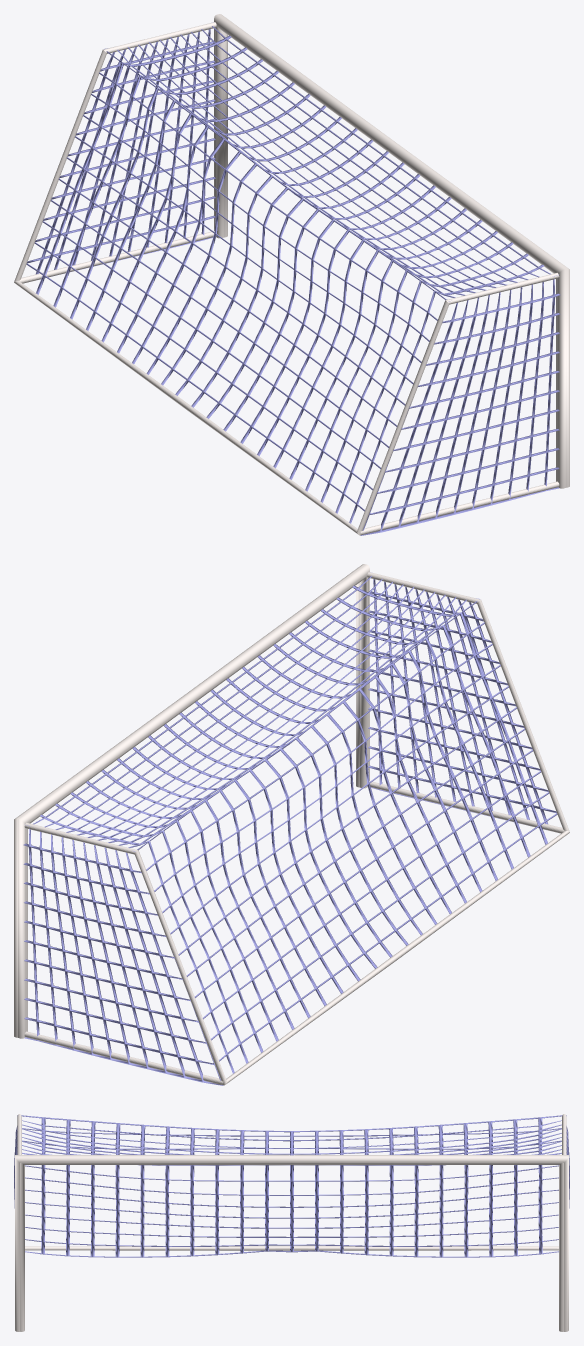
File: FootballGoalModel.fbx
The picture shows the model from 3 angles, top to bottom: view 1: azimuth 30°, elevation 25°; view 2: azimuth 150°, elevation 25°; view 3: azimuth 270°, elevation 25°; orthographic projection. The views are drawn at different scales.
Parts seen in each view (by area): view 1: Cube, Cylinder, Plane; view 2: Cube, Cylinder, Plane; view 3: Cube, Cylinder, Plane.
Part boxes in pixels (x1,y1,x2,y2): Cube: (26,26,560,535); Cylinder: (214,14,569,488); Plane: (14,22,559,535); Cube: (23,576,557,1085); Cylinder: (14,564,369,1038); Plane: (24,572,569,1085); Cube: (14,1115,569,1257); Cylinder: (15,1155,568,1331); Plane: (17,1114,566,1250).
Size of the model in its own units: 208 by 210 by 595.
